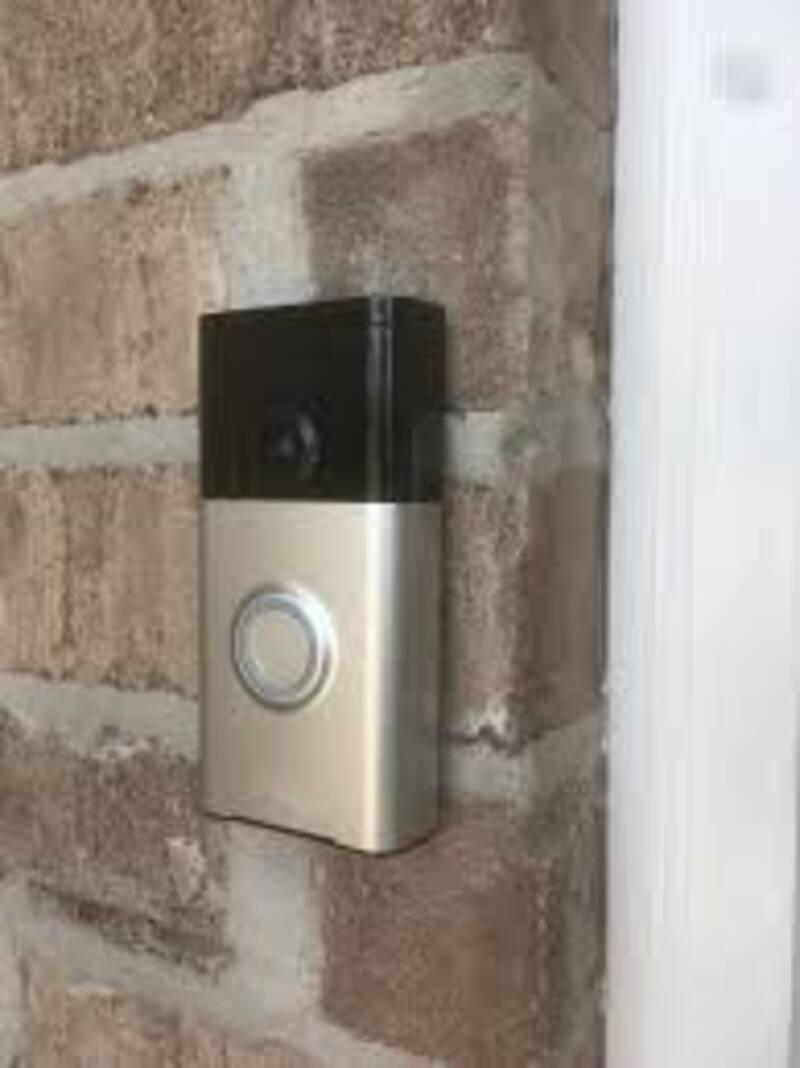doorbell: (178, 291, 456, 867)
